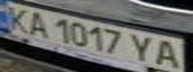0: (66, 19, 87, 47)
1: (48, 16, 72, 44), (84, 24, 106, 52)
7: (103, 26, 127, 56)
A: (151, 37, 187, 70), (21, 9, 51, 38)
K: (0, 3, 33, 33)
Y: (127, 31, 160, 64)
